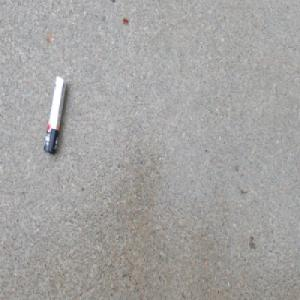Battery: (42, 72, 68, 155)
